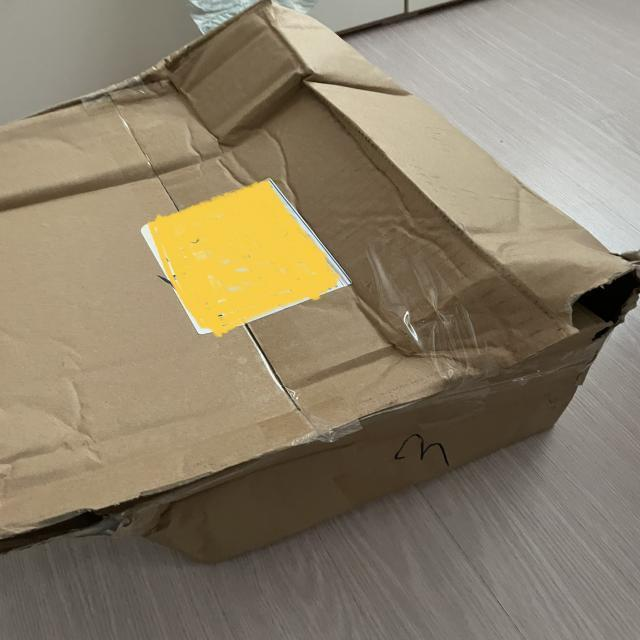hole: (558, 254, 640, 349)
